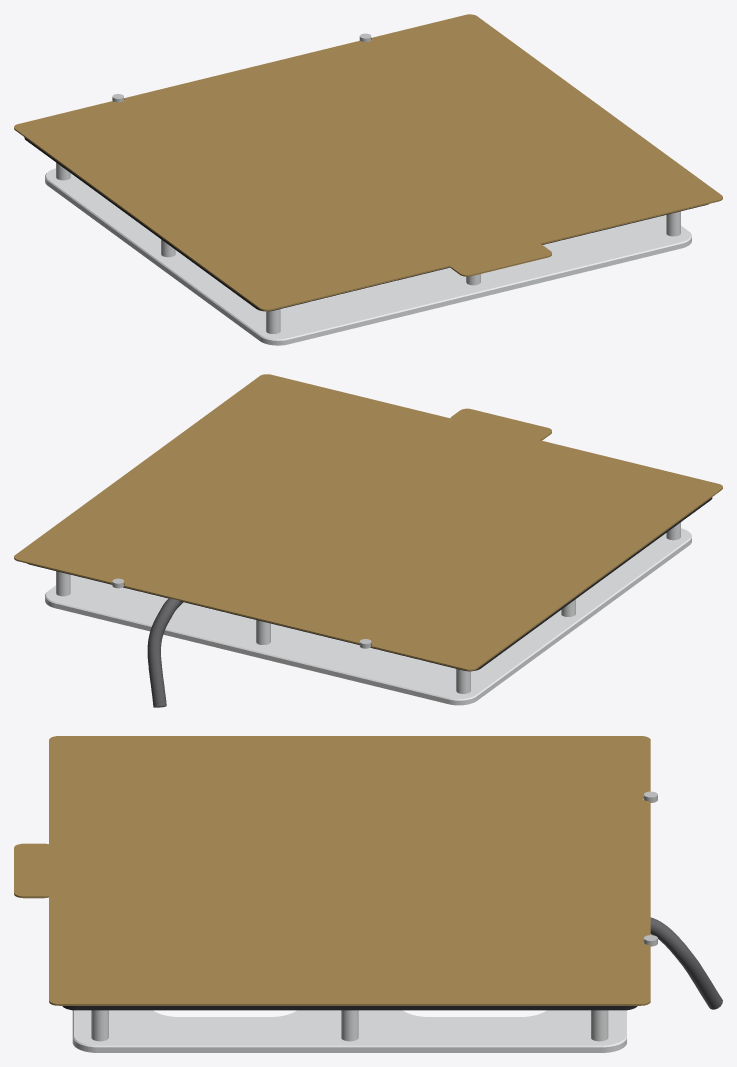
Rendered from print-bed.glb.
3 views of the same model, one above another, from view 1: azimuth 30°, elevation 25°; view 2: azimuth 150°, elevation 25°; view 3: azimuth 270°, elevation 25° (orthographic). The views are drawn at different scales.
Parts seen in each view (by area): view 1: print-bed; view 2: print-bed; view 3: print-bed.
Part boxes in pixels (x1,y1,x2,y2): print-bed: (14,14,722,345); print-bed: (14,374,722,707); print-bed: (14,736,722,1052).
Size of the model in its own units: 254 by 48.32 by 284.
